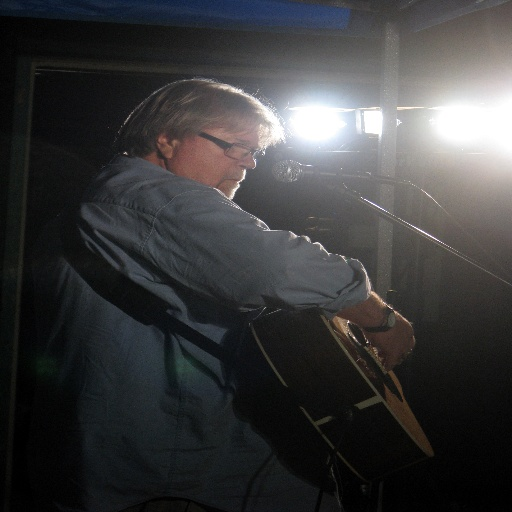hand: (362, 310, 418, 372)
